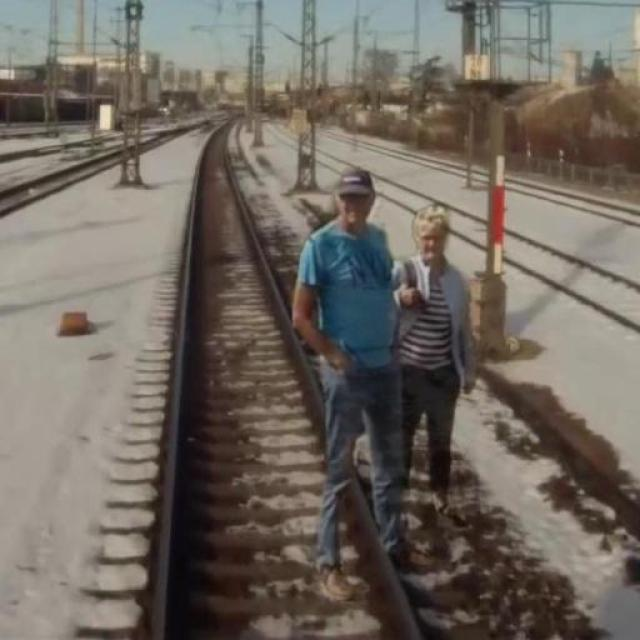people: (294, 151, 416, 596), (393, 184, 470, 526)
